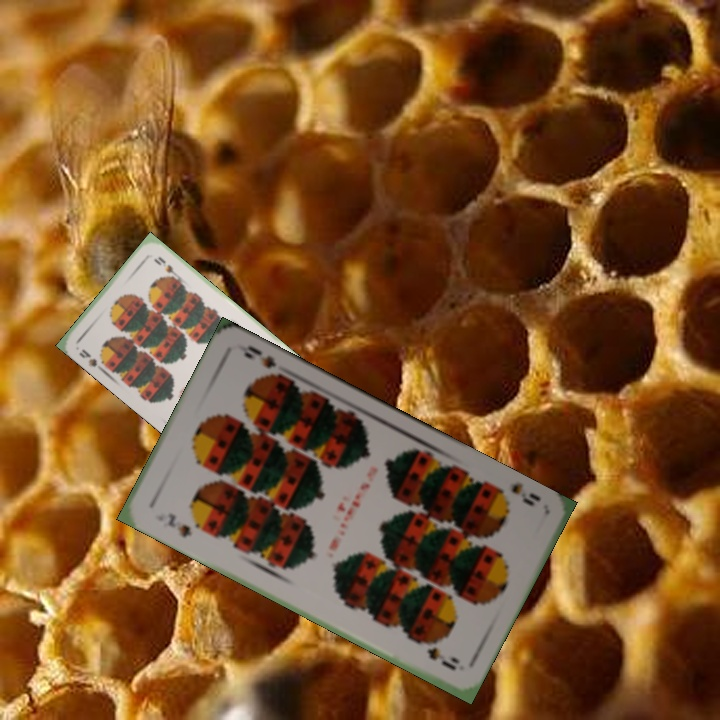S9: (489, 479, 544, 509), (75, 345, 109, 375), (164, 508, 194, 541)
